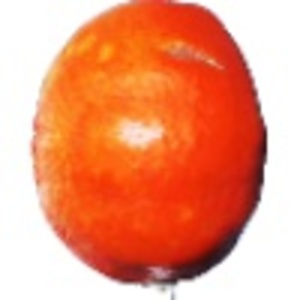tangerina: (19, 1, 269, 300)
